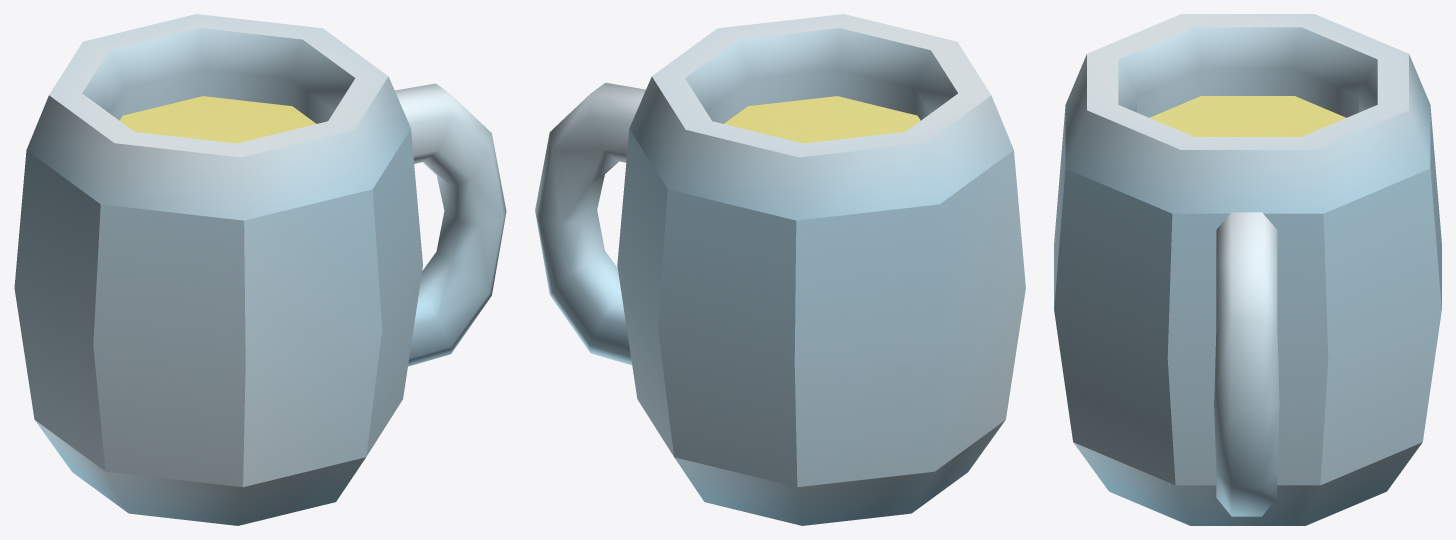
The model's file is mug_glass_beer.fbx.
3 views of the same model, side by side, from view 1: azimuth 30°, elevation 25°; view 2: azimuth 150°, elevation 25°; view 3: azimuth 270°, elevation 25° (orthographic).
Parts seen in each view (by area): view 1: mug_glass_beer; view 2: mug_glass_beer; view 3: mug_glass_beer.
Boxes of the visible parts, bbox=[...] form: mug_glass_beer: bbox=[14, 14, 506, 525]; mug_glass_beer: bbox=[535, 14, 1025, 525]; mug_glass_beer: bbox=[1054, 14, 1441, 525].
Size of the model in its own units: 33.11 by 26.96 by 24.59.
